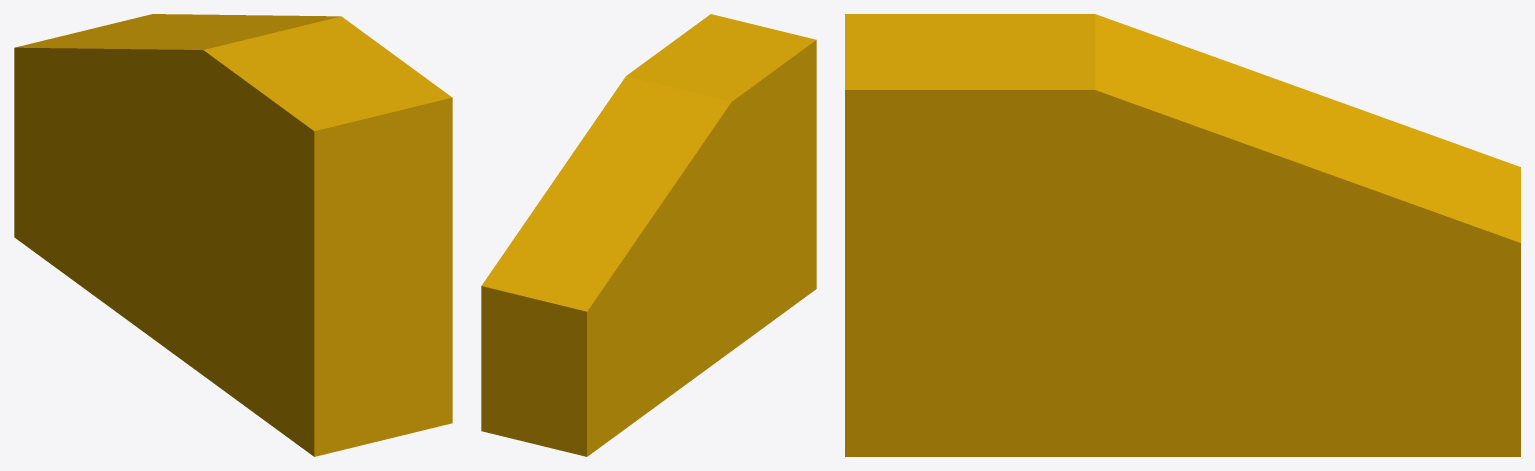
The model's file is decoration-9827.glb.
The picture shows the model from 3 angles, left to right: view 1: azimuth 30°, elevation 25°; view 2: azimuth 150°, elevation 25°; view 3: azimuth 270°, elevation 25°; orthographic projection. The views are drawn at different scales.
Visible parts, largest first — view 1: Material_032-material; view 2: Material_032-material; view 3: Material_032-material.
Part boxes in pixels (box(x1,y1,x2,y2)): Material_032-material: box(14, 14, 452, 456); Material_032-material: box(481, 14, 816, 456); Material_032-material: box(845, 14, 1520, 456).
Bounding box in the file's own units: 6.61 × 14.88 × 24.84.
